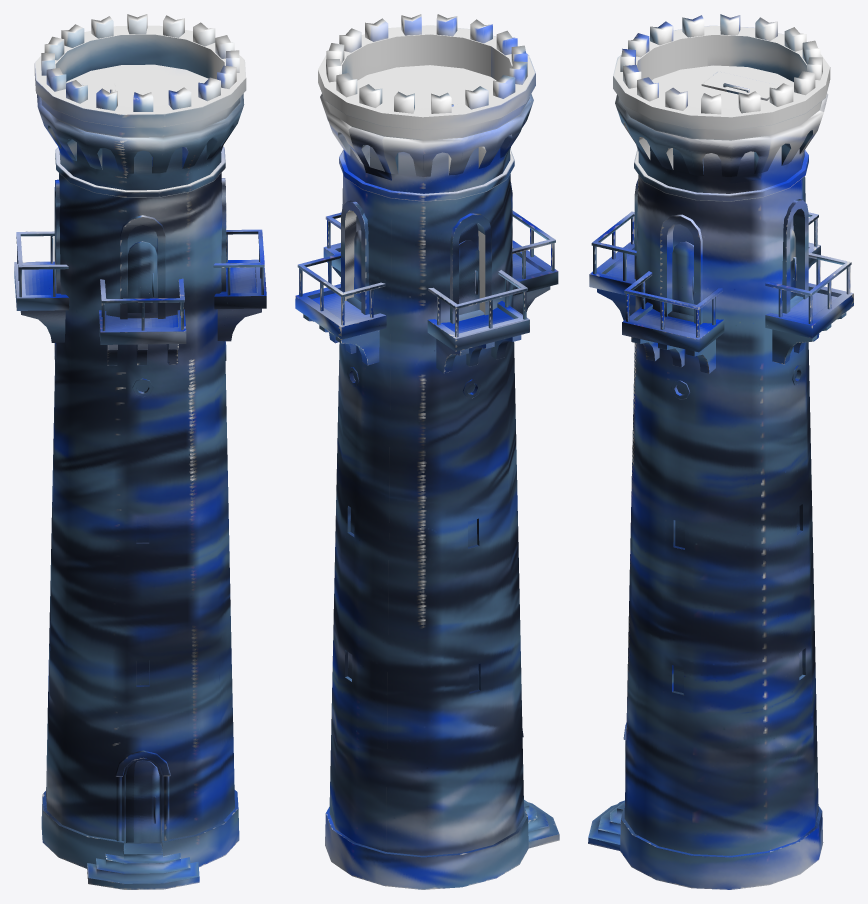
Rendered from Water.glb.
3 views of the same model, side by side, from view 1: azimuth 30°, elevation 25°; view 2: azimuth 150°, elevation 25°; view 3: azimuth 270°, elevation 25° (orthographic).
Parts seen in each view (by area): view 1: kickelhahn_tower; view 2: kickelhahn_tower; view 3: kickelhahn_tower.
Boxes of the visible parts, x1,y1,x2,y2 form: kickelhahn_tower: (14, 14, 266, 889); kickelhahn_tower: (295, 14, 559, 889); kickelhahn_tower: (588, 14, 853, 889).
Size of the model in its own units: 7.29 by 24.03 by 7.33.
Materials: 1 (1 with a texture image).
